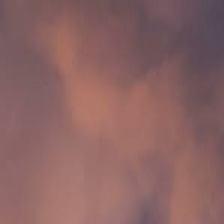smoke: (51, 34, 178, 173)
